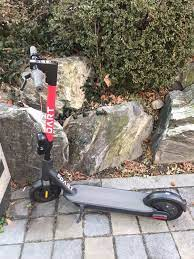kick_board: (27, 46, 186, 219)
kick_body: (74, 185, 145, 211)
kick_handler: (21, 45, 58, 93)
kick_neck: (44, 86, 55, 164)
kick_wheel: (149, 191, 186, 221), (30, 180, 61, 202)
